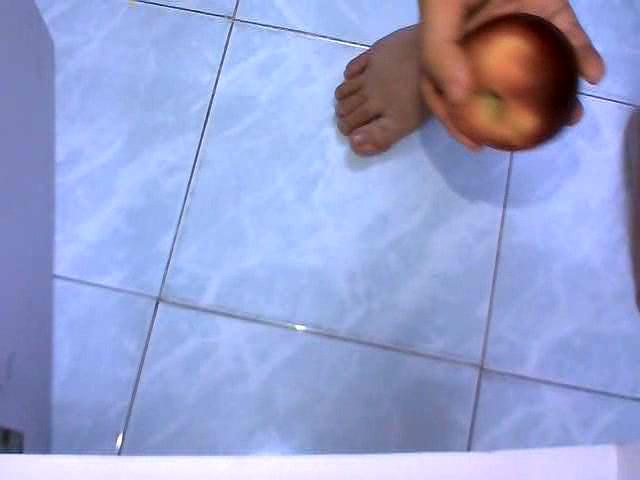apple: (442, 13, 579, 150)
